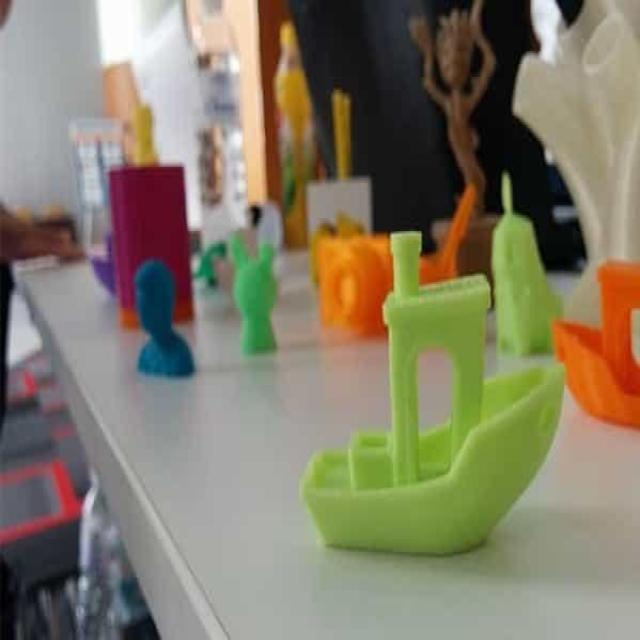Without deffect: (287, 196, 571, 577)
